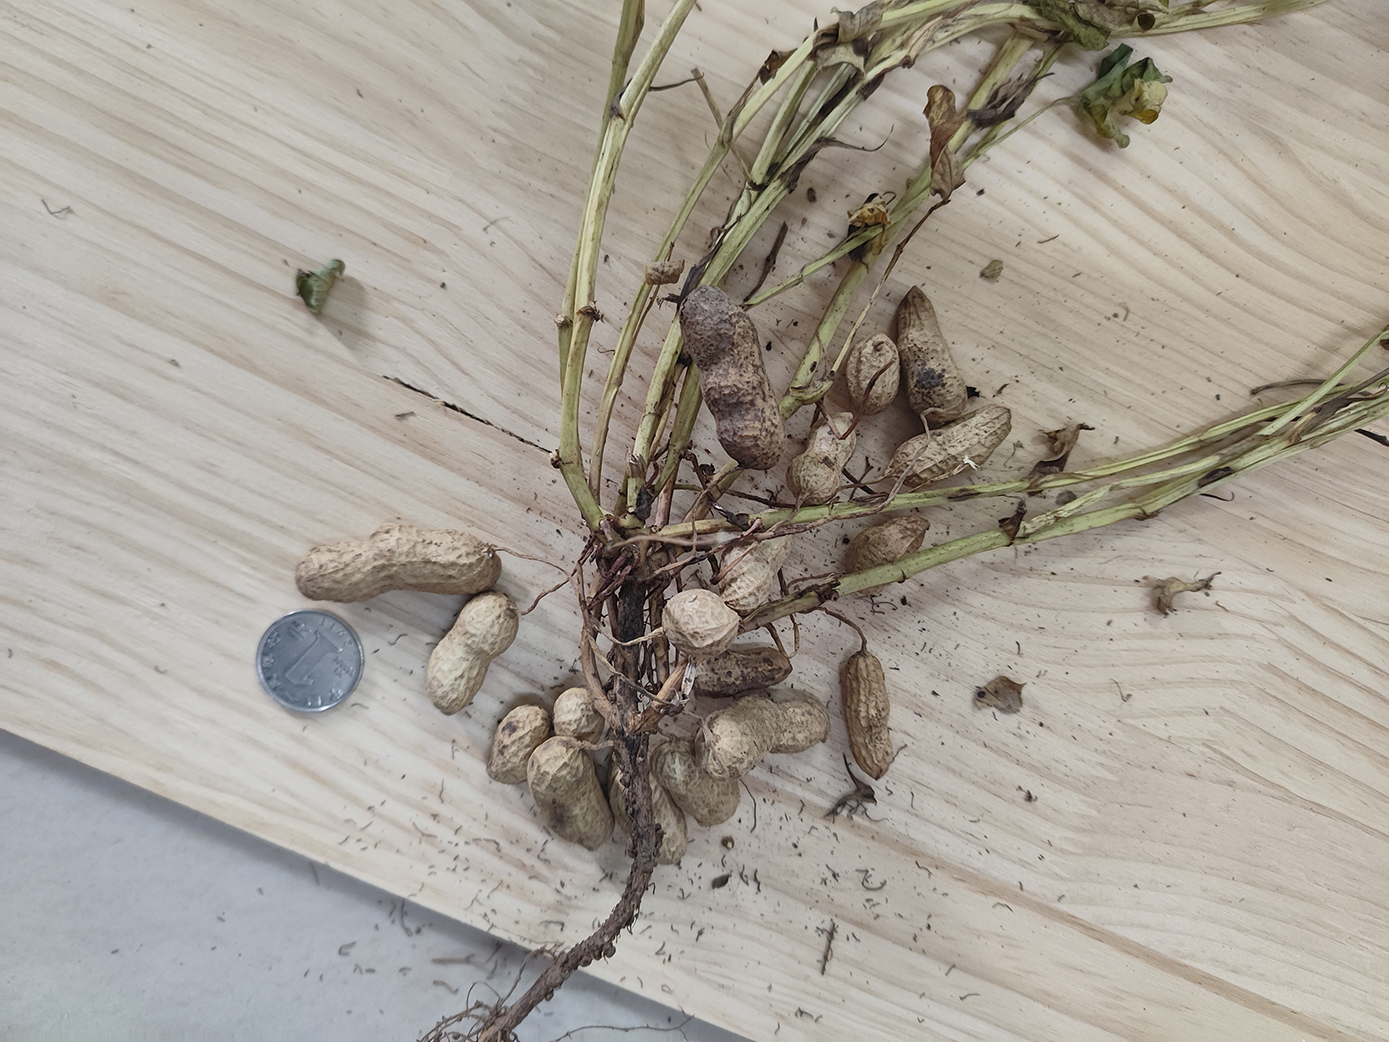h: (296, 522, 501, 601), (695, 694, 831, 783), (427, 593, 520, 716), (888, 403, 1012, 487), (525, 737, 610, 854), (898, 287, 968, 427), (609, 751, 687, 868), (653, 740, 739, 827), (842, 516, 929, 597), (788, 413, 858, 503), (842, 652, 892, 778), (718, 523, 791, 607), (683, 650, 796, 697), (662, 589, 739, 658), (488, 704, 548, 782), (847, 334, 898, 414), (553, 687, 604, 746)
l: (678, 283, 783, 468)
